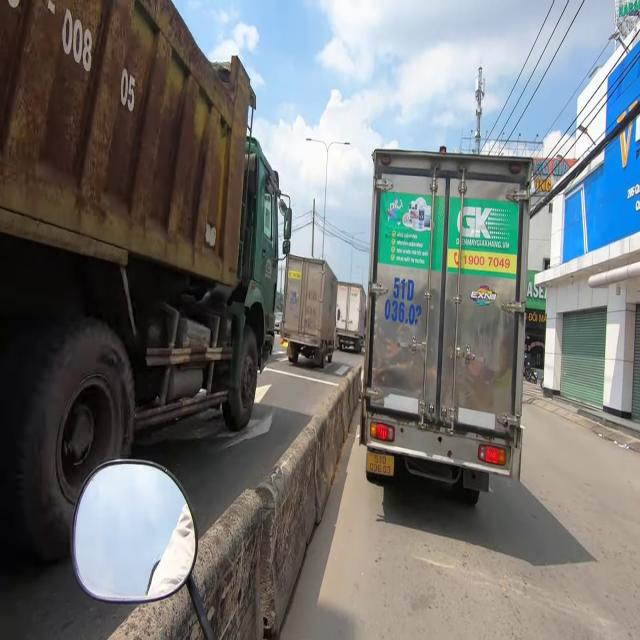bien_vang: (366, 451, 394, 478)
